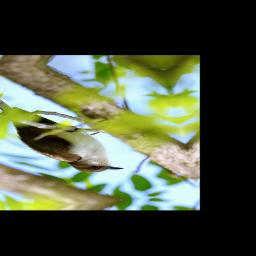Cuckoo: (0, 67, 126, 182)
